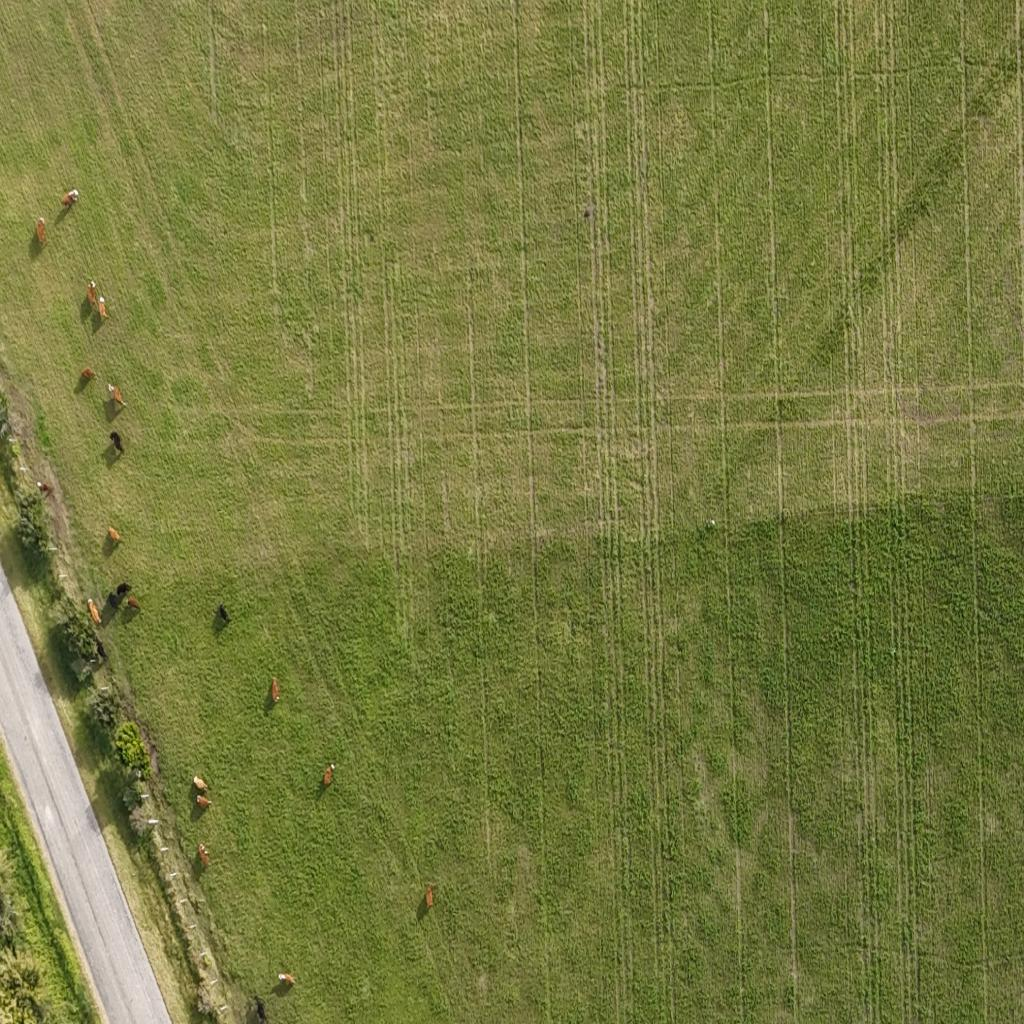cow: (324, 760, 339, 788), (108, 381, 124, 405), (88, 598, 102, 625), (95, 295, 108, 321), (110, 431, 124, 455), (216, 602, 231, 624), (95, 639, 108, 664), (255, 999, 268, 1024), (86, 282, 98, 308), (62, 189, 78, 208), (198, 842, 211, 865), (80, 366, 96, 384), (126, 594, 142, 612), (270, 675, 280, 703), (108, 526, 122, 544), (37, 216, 46, 244), (193, 774, 207, 792), (107, 591, 120, 610), (425, 882, 434, 908), (279, 972, 295, 986), (116, 582, 130, 598), (196, 794, 210, 809), (39, 481, 53, 495)
